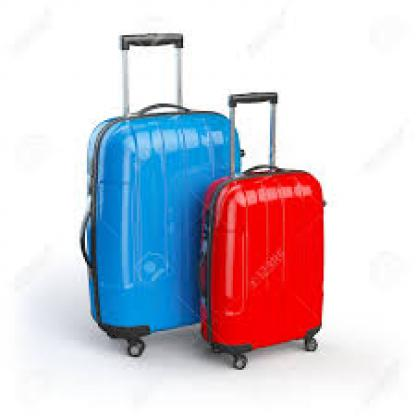maleta: (52, 96, 251, 362), (190, 144, 338, 387)
